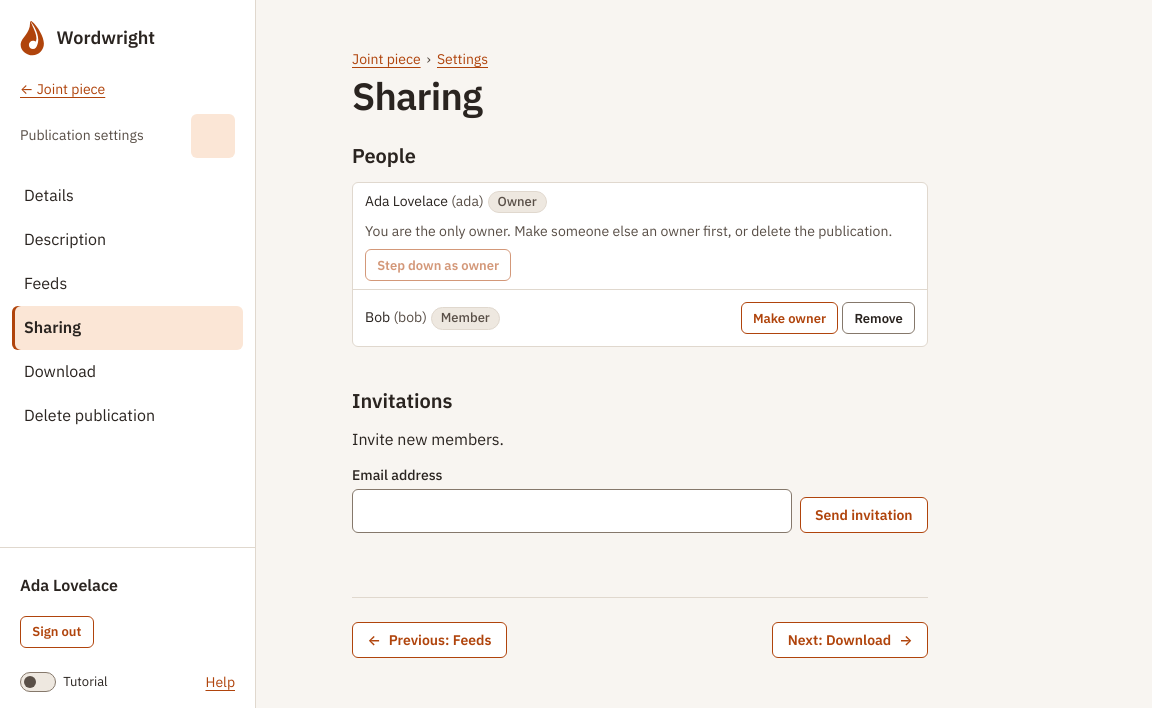
owners in the people list › does nothing when the dialog is cancelled
The width and height of the screenshot is (1152, 708).
What coordinates should you click on to do the following:
click the button with aria-label "Make owner Bob"
I would click on:
 (790, 318)
Its box is [741,302,838,334].
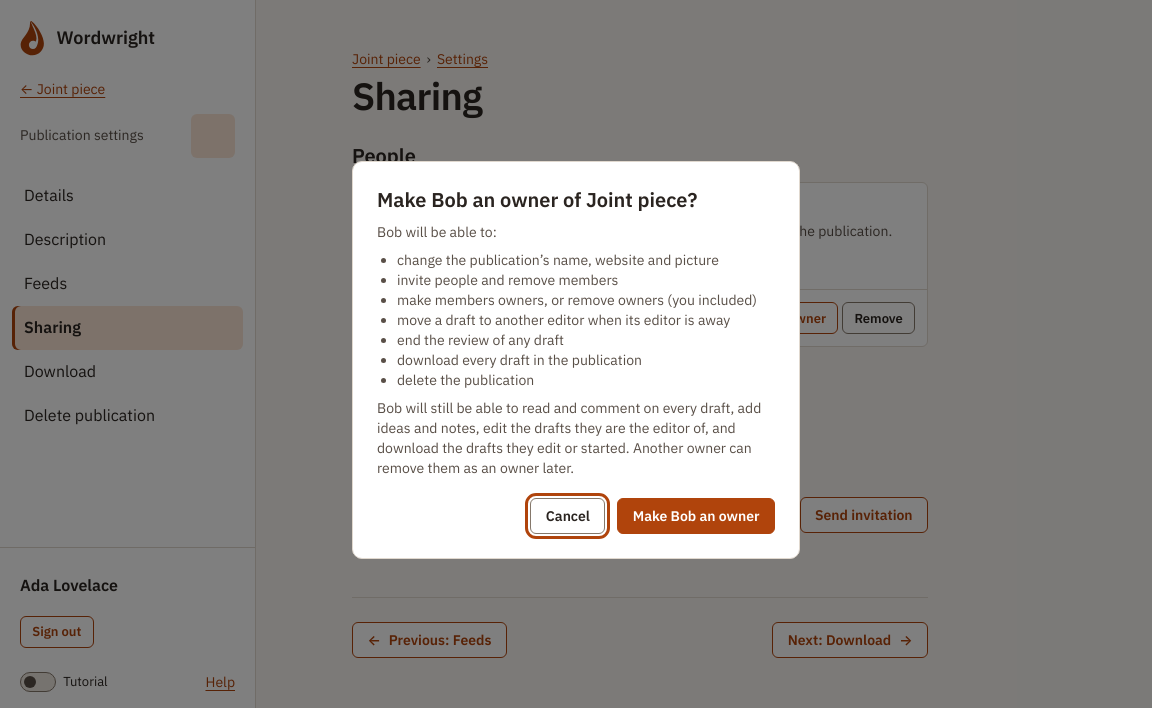
What coordinates should you click on to do the following:
click the button "Cancel"
I would click on:
 (568, 516)
Its box is [530,498,605,534].
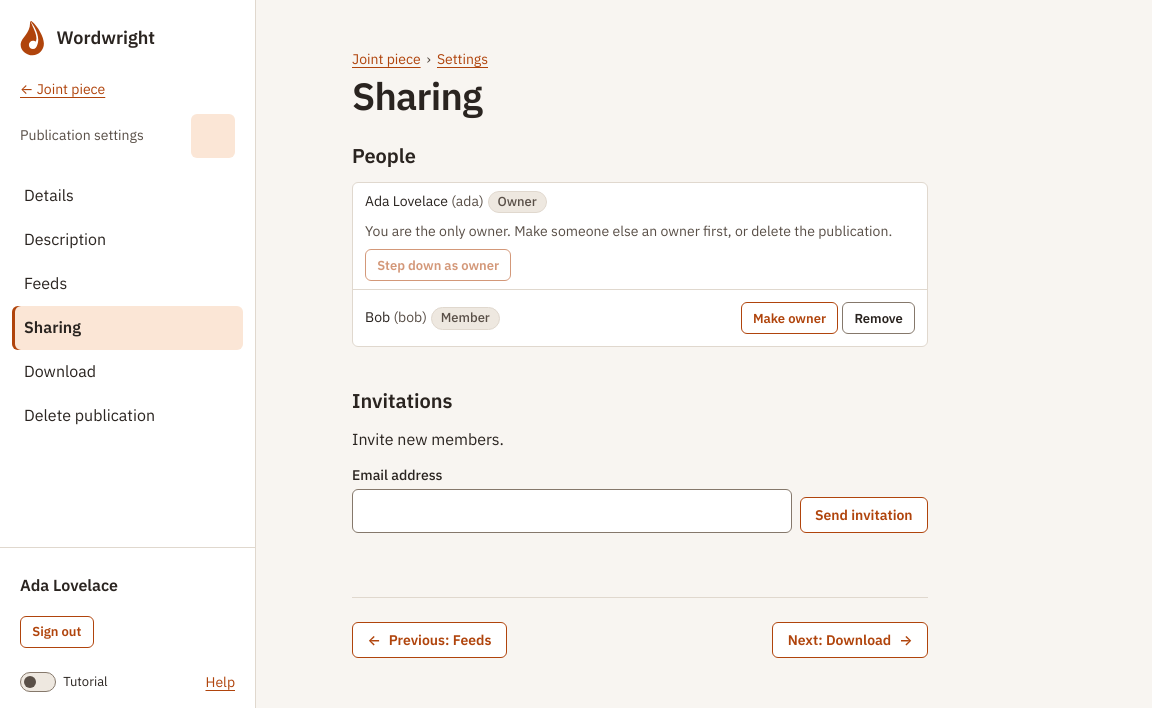
Now the dialog is gone
